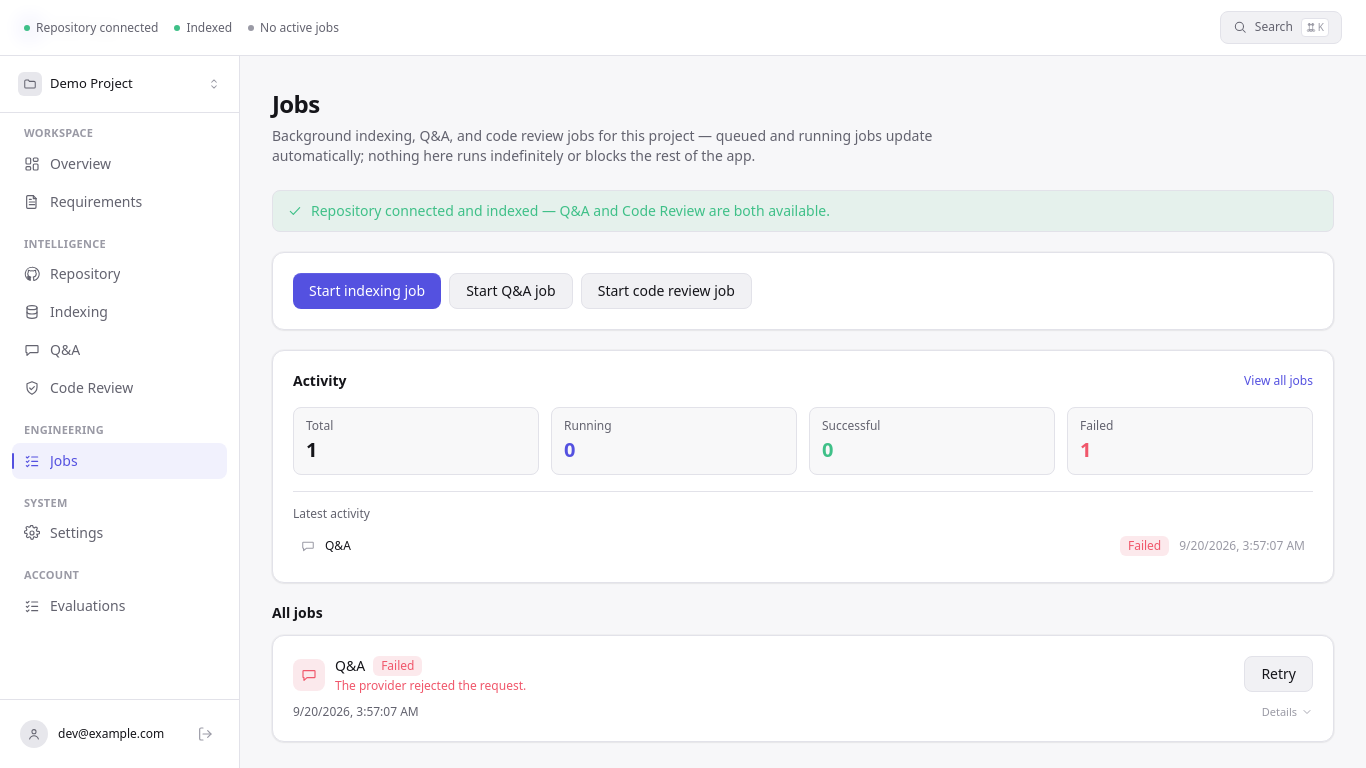
Test: Jobs — listing › shows a failed job's concise error message, with the retry count inside Details
This screenshot has width=1366, height=768.
Expected: the text "The provider rejected the request." is shown, [335,678,526,694]
Expected: the text "Retries" is not shown
Click the button "Details": (1287, 712) [1262,704,1313,720]
(page scrolled)
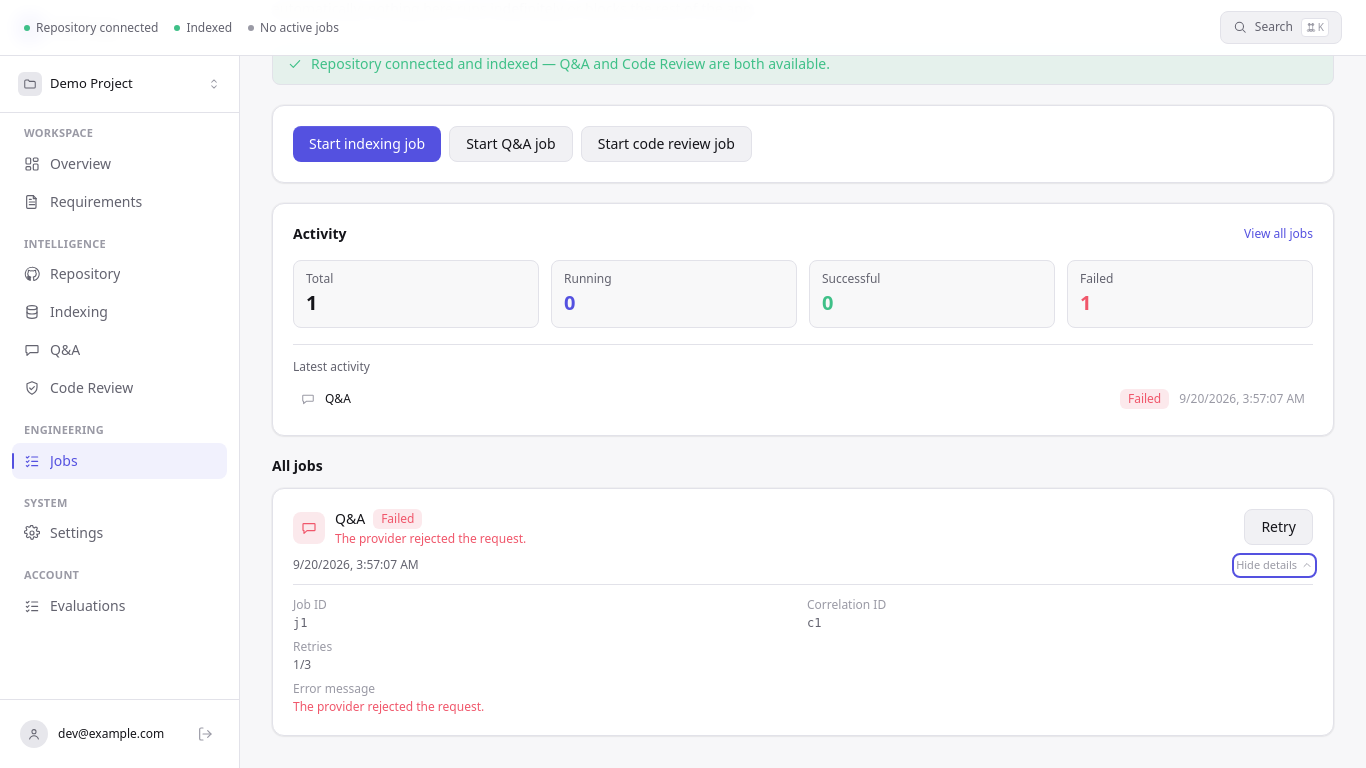
Now the text "Retries" is shown, box [293,638,332,654]
Now the text "1/3" is shown, box [293,656,311,672]
